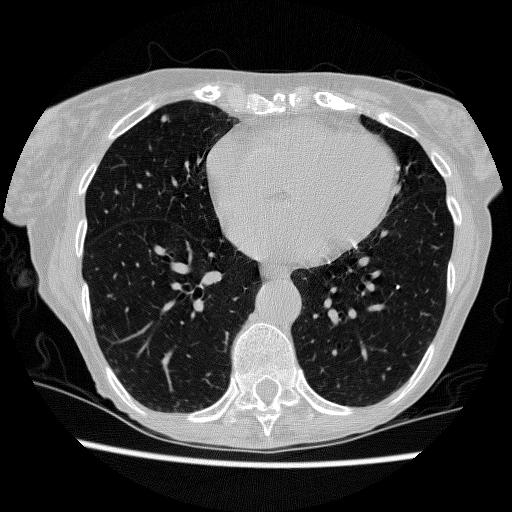nodule: (158, 113, 170, 125)
